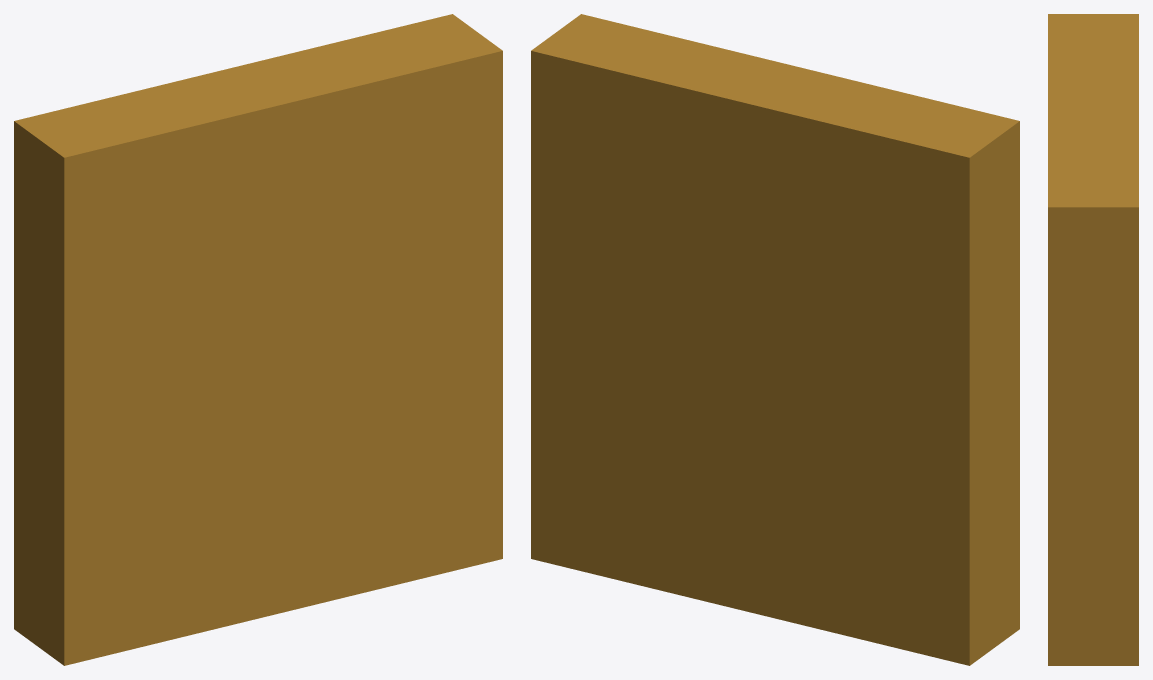
Rendered from BronzeDoorPlugInnerWard.fbx.
3 renders of one model, left to right at view 1: azimuth 30°, elevation 25°; view 2: azimuth 150°, elevation 25°; view 3: azimuth 270°, elevation 25°, orthographic. The views are drawn at different scales.
Parts seen in each view (by area): view 1: BronzeDoorPlugInnerWard; view 2: BronzeDoorPlugInnerWard; view 3: BronzeDoorPlugInnerWard.
Part boxes in pixels (bbox=[...]): BronzeDoorPlugInnerWard: bbox=[14, 14, 502, 665]; BronzeDoorPlugInnerWard: bbox=[531, 14, 1019, 665]; BronzeDoorPlugInnerWard: bbox=[1048, 14, 1138, 665].
Size of the model in its own units: 262 by 290 by 52.
1 material, 1 textured.
